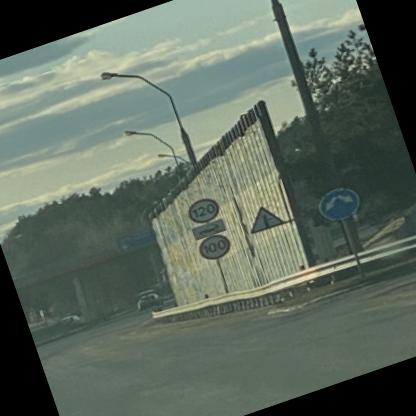speedlimit: (194, 230, 232, 263), (184, 194, 221, 226)
